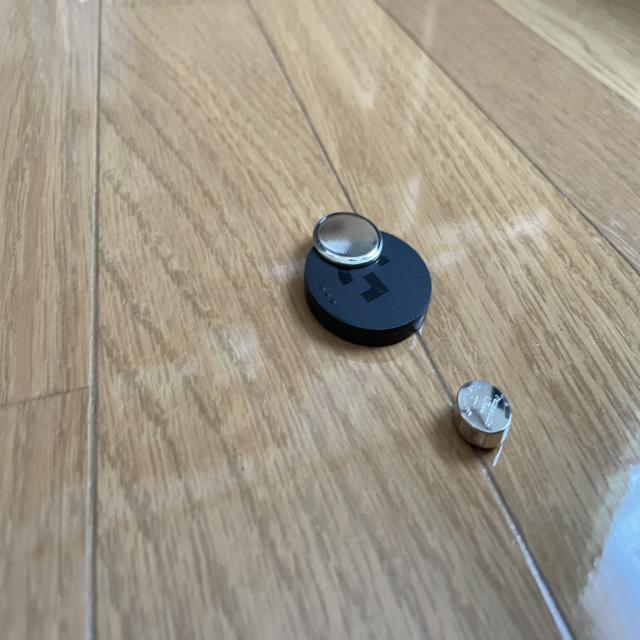COIN: (453, 381, 512, 448), (312, 212, 383, 266)
